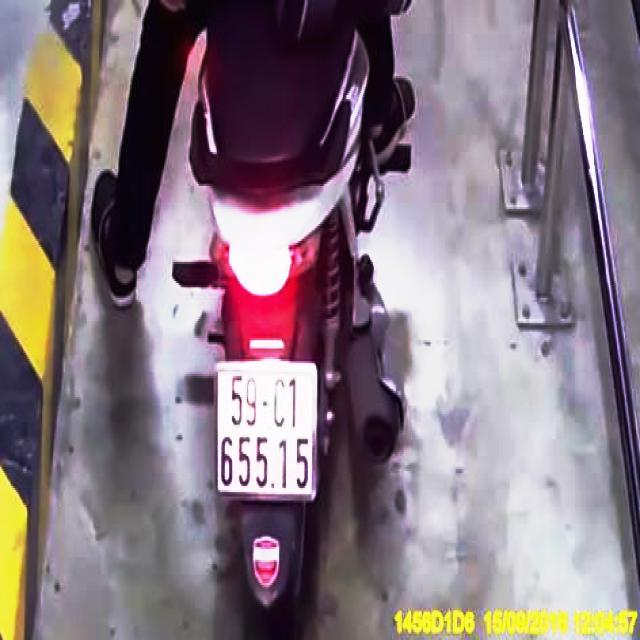license_plate: (215, 371, 316, 498)
